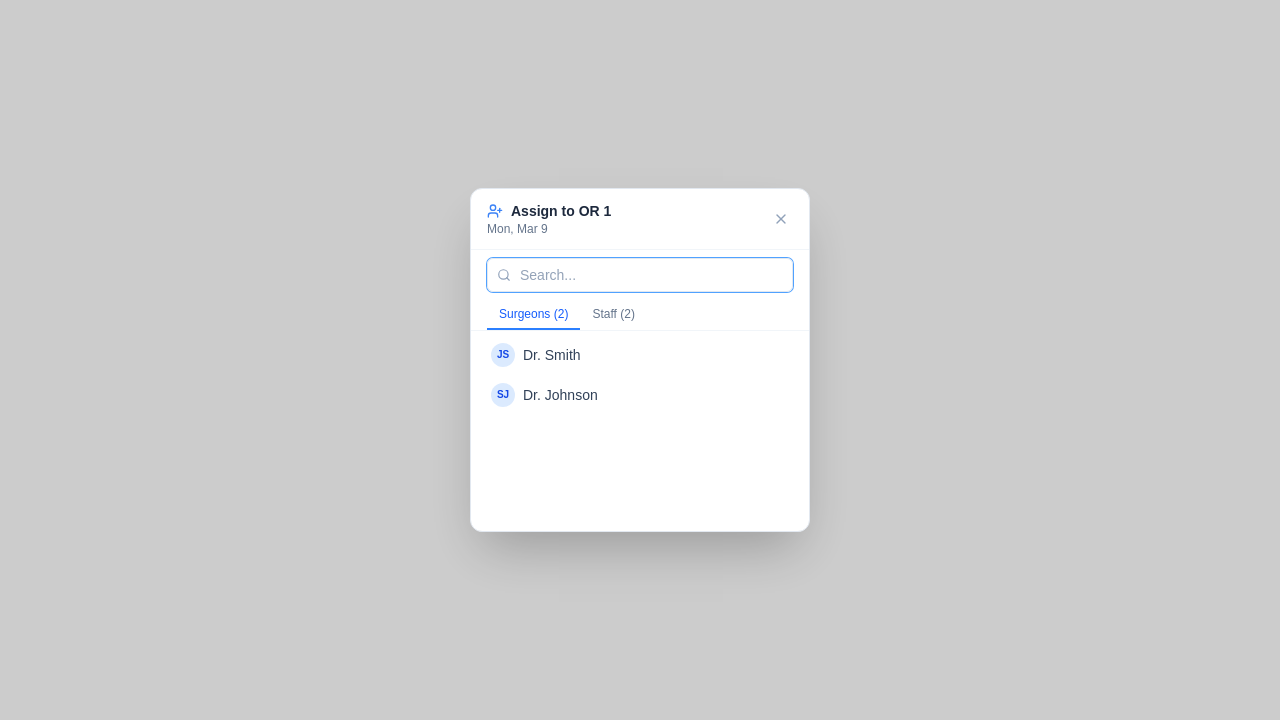
Test: AssignPersonDialog › search filtering › filters staff by search text
The image size is (1280, 720).
Click the tab "Staff (2)".
click(614, 315)  # box [580, 300, 647, 330]
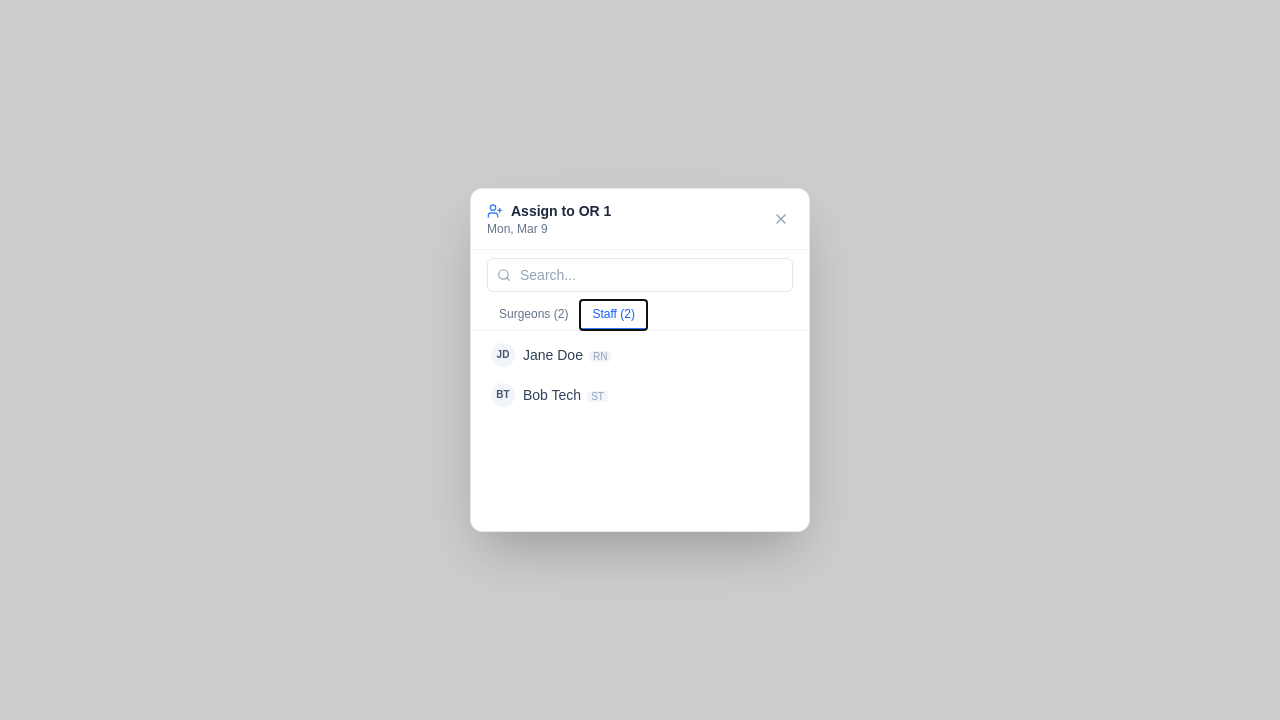
Type "doe" into the field with placeholder "Search...".
click(640, 275); type("doe")  # box [487, 258, 793, 292]
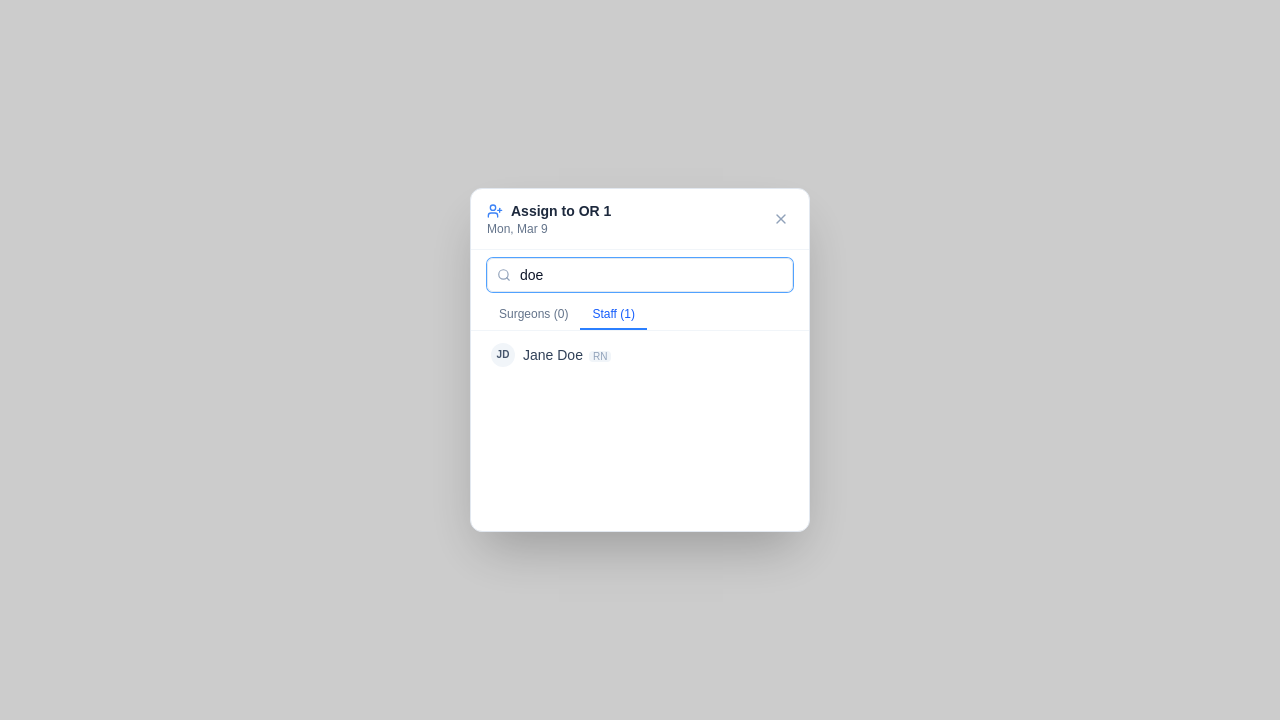
Now the text "Jane Doe" is shown, box [523, 347, 583, 363]
Now the button "Bob Tech" is gone
